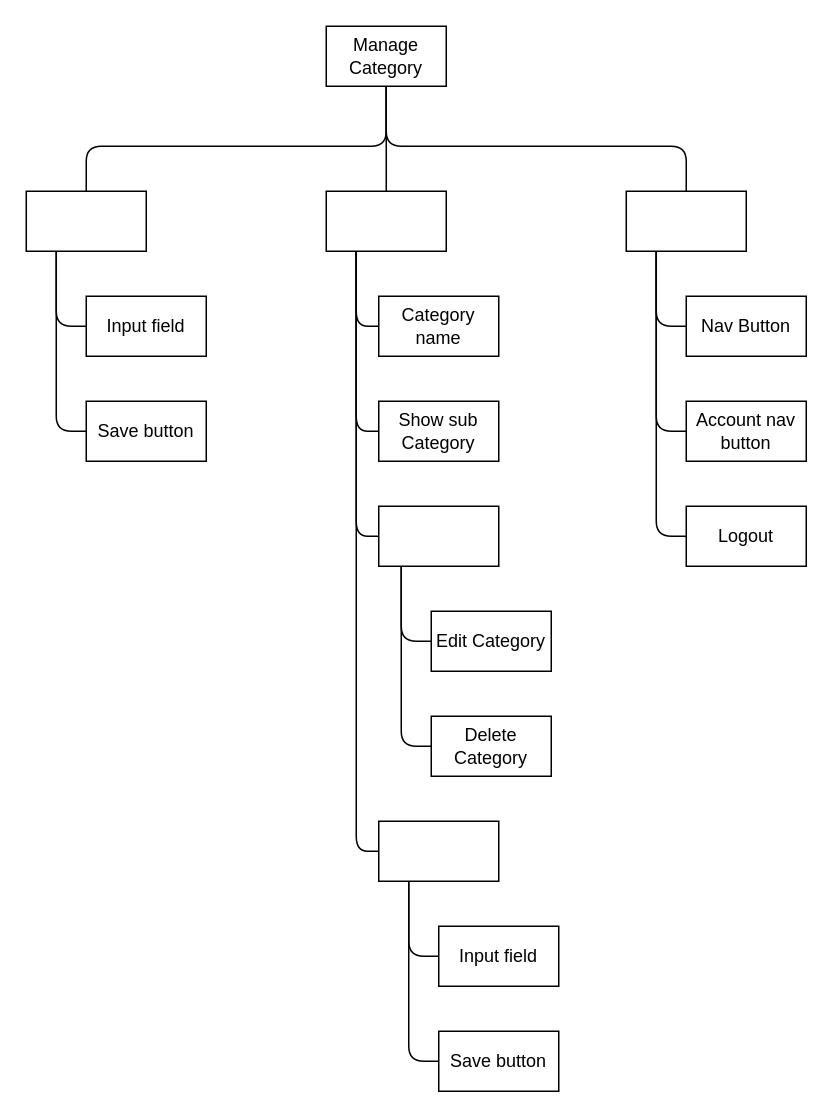
Some shapes in this 833 by 1118 pixel diagram are drawn without their labels. Each missing label, with the centre of its shape:
"3 dots button" goes at point (438, 535).
"Category" goes at point (385, 220).
"Create first tree Category area" goes at point (85, 220).
"Create Sub Category area" goes at point (438, 850).
"Side bar" goes at point (685, 220).
